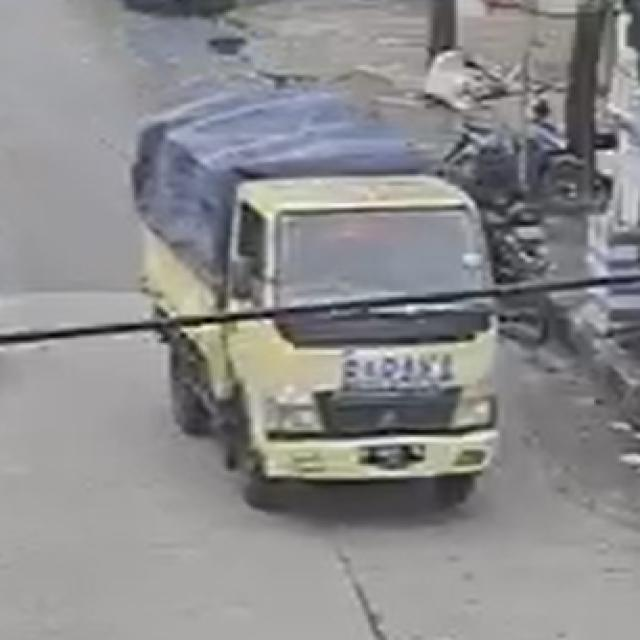truck: (124, 88, 521, 528)
